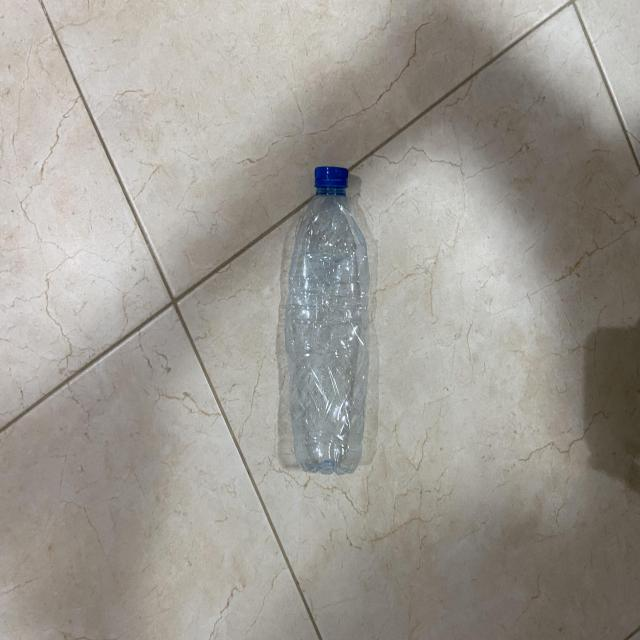bottle: (268, 168, 378, 482)
